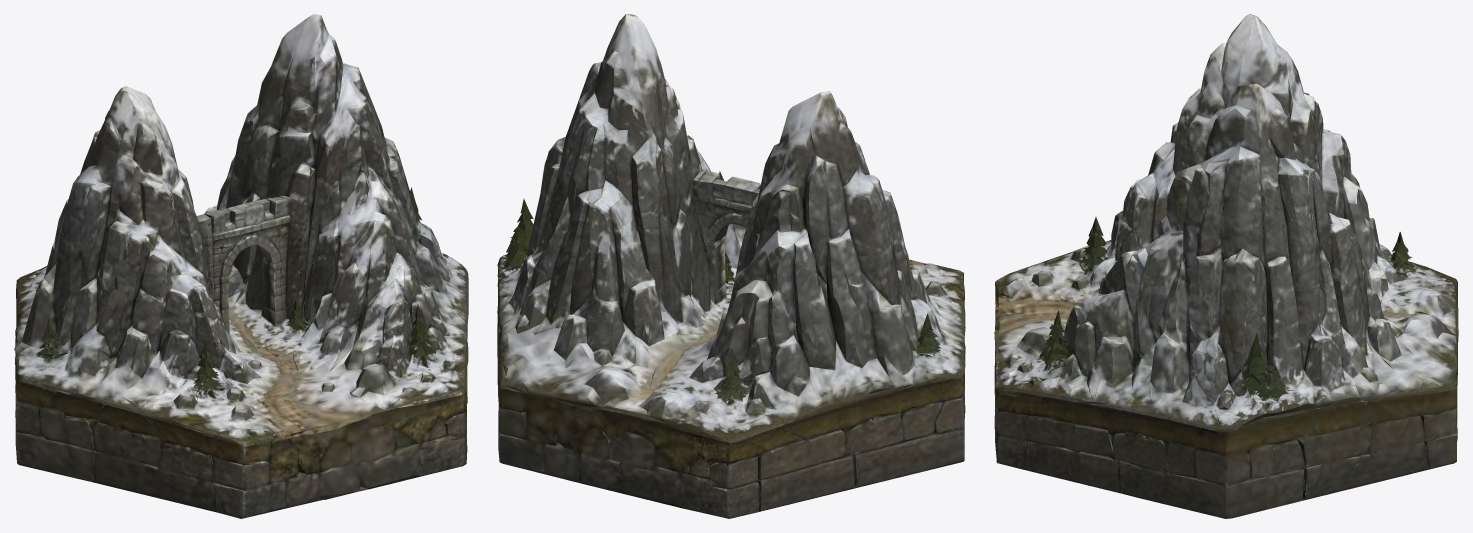
The model's file is pass.glb.
3 views of the same model, side by side, from view 1: azimuth 30°, elevation 25°; view 2: azimuth 150°, elevation 25°; view 3: azimuth 270°, elevation 25° (orthographic). The views are drawn at different scales.
Size of the model in its own units: 2.37 by 1.83 by 2.08.
1 material, 1 textured.
